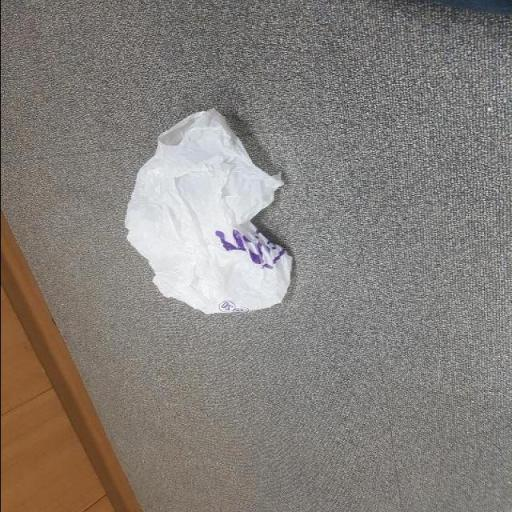plastic-bag: (118, 104, 299, 318)
